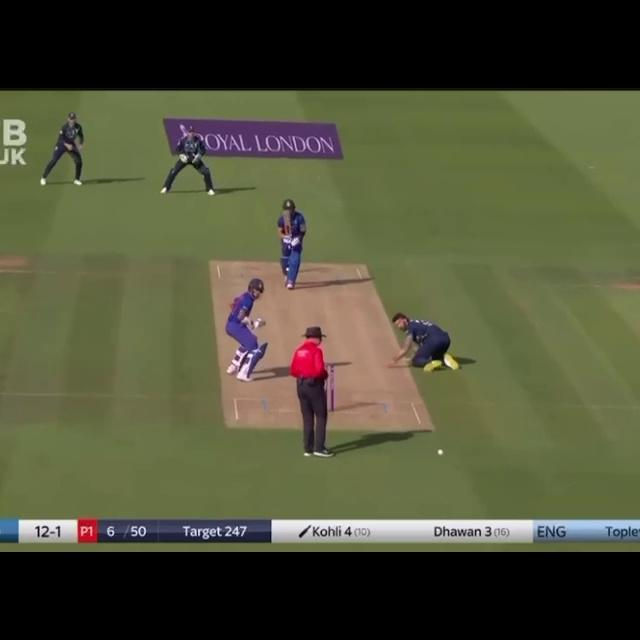umpire: (278, 322, 351, 465)
